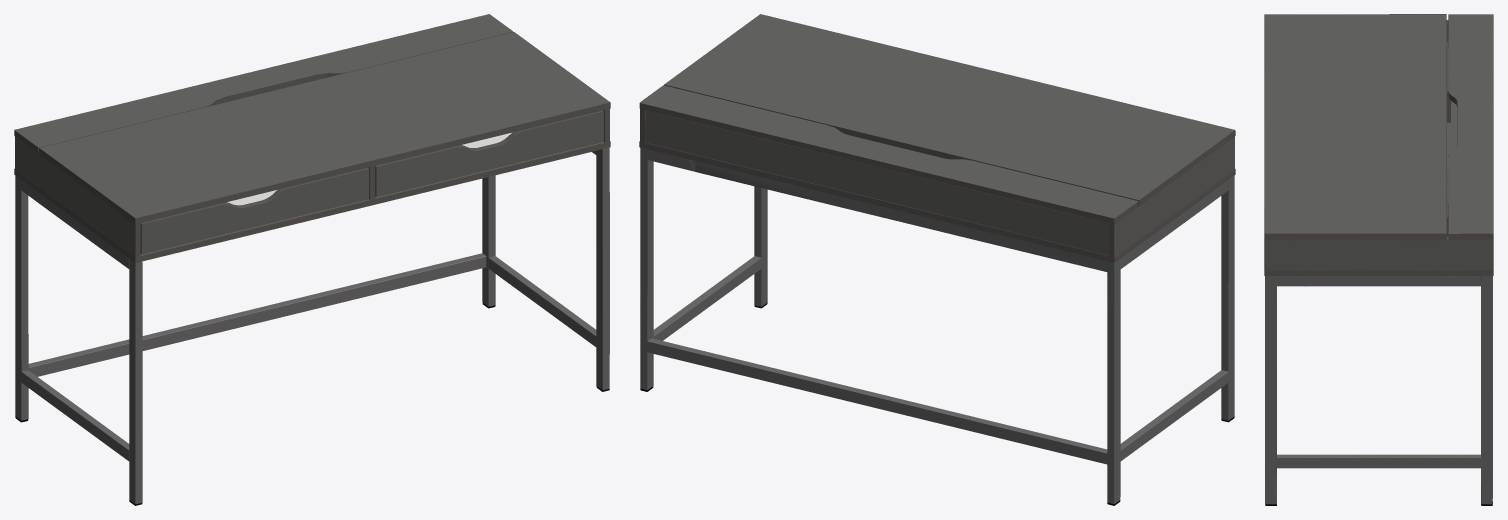
File: alex_biurko_80588888.glb
3 renders of one model, left to right at view 1: azimuth 30°, elevation 25°; view 2: azimuth 150°, elevation 25°; view 3: azimuth 270°, elevation 25°, orthographic. The views are drawn at different scales.
Visible parts, largest first — view 1: alex_biurko_80588888; view 2: alex_biurko_80588888; view 3: alex_biurko_80588888.
Part boxes in pixels (<box>): alex_biurko_80588888: <box>14,14,610,505</box>; alex_biurko_80588888: <box>639,14,1235,505</box>; alex_biurko_80588888: <box>1264,14,1493,505</box>.
Bounding box in the file's own units: 1.31 × 0.7614 × 0.5801.
Materials: 3 (3 with a texture image).
